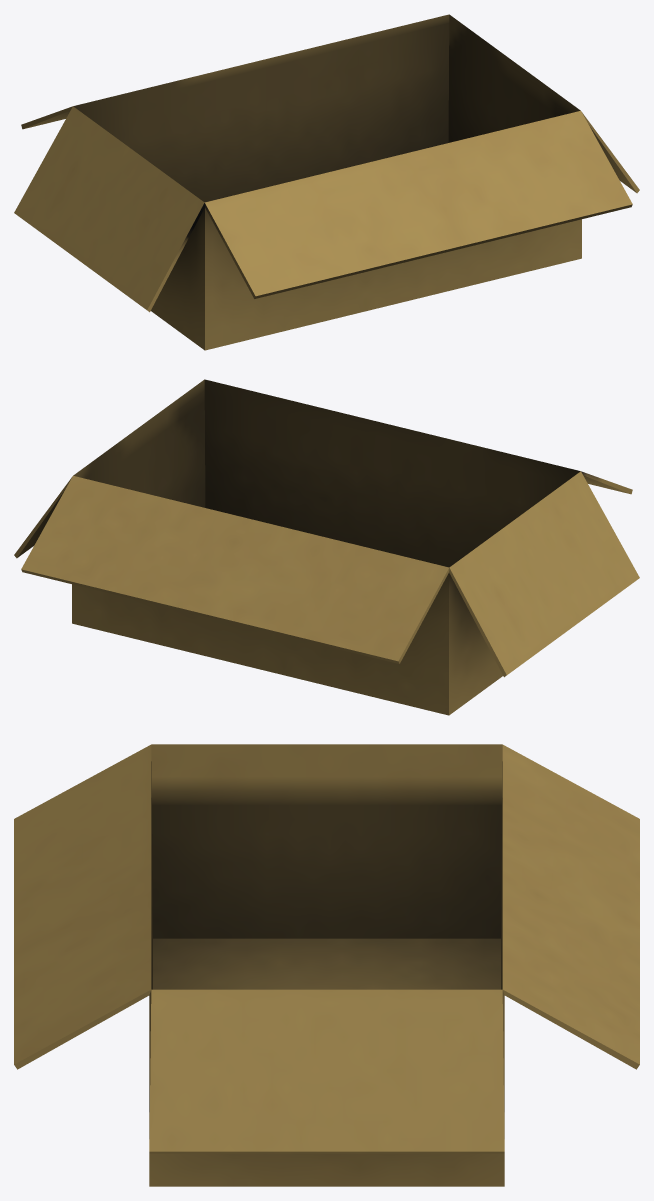
The model's file is Box_Opened.fbx.
3 views of the same model, one above another, from view 1: azimuth 30°, elevation 25°; view 2: azimuth 150°, elevation 25°; view 3: azimuth 270°, elevation 25° (orthographic). The views are drawn at different scales.
Visible parts, largest first — view 1: Box_Opened; view 2: Box_Opened; view 3: Box_Opened.
Part boxes in pixels (x1,y1,x2,y2): Box_Opened: (14, 14, 639, 350); Box_Opened: (14, 379, 639, 715); Box_Opened: (14, 744, 639, 1186).
Bounding box in the file's own units: 45.68 × 13.05 × 37.64.
